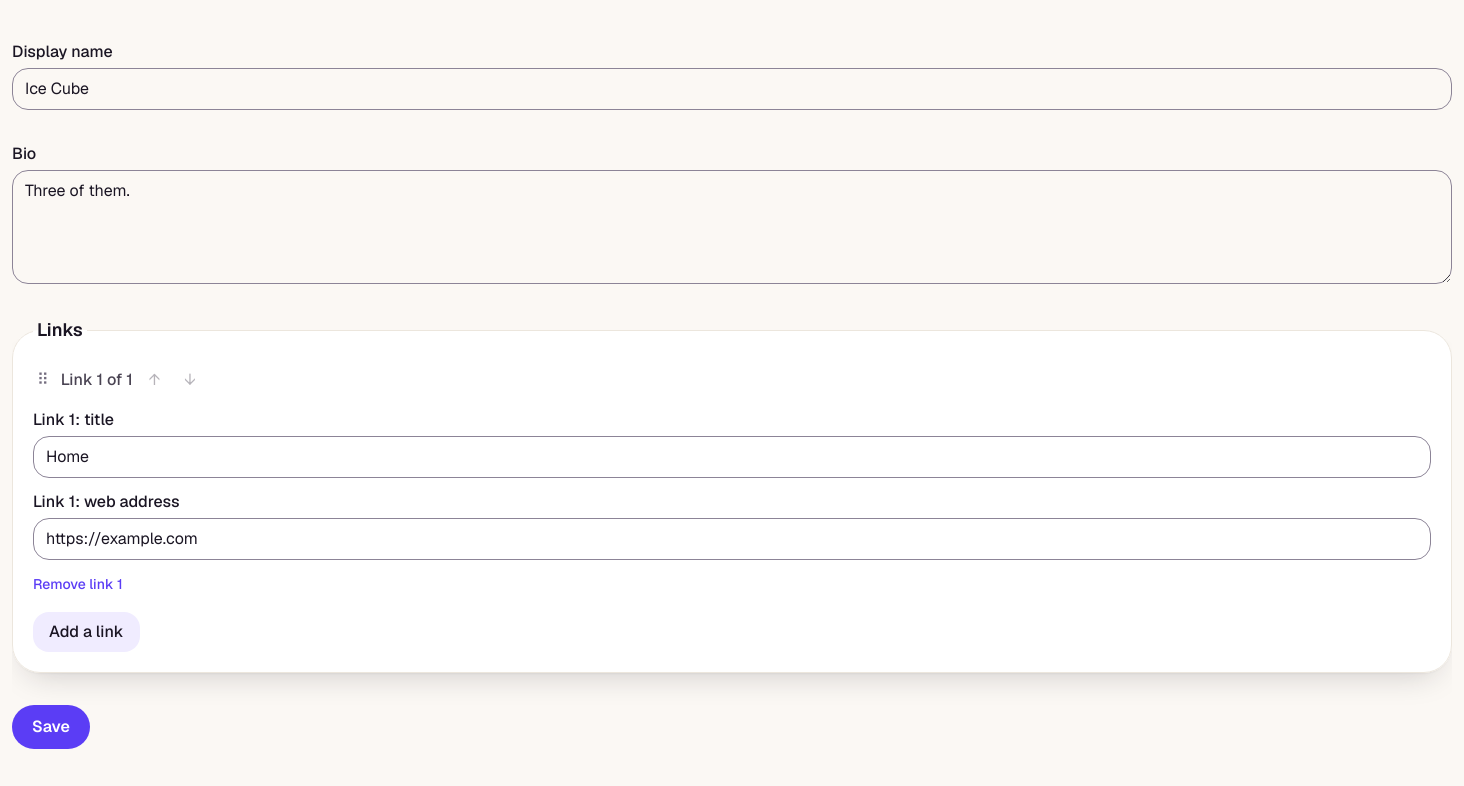
Scenario: the Profile form, when the save is rejected › keeps the draft when the write itself failed
Click the button "Save" at (51, 727), box [12,705,90,749]
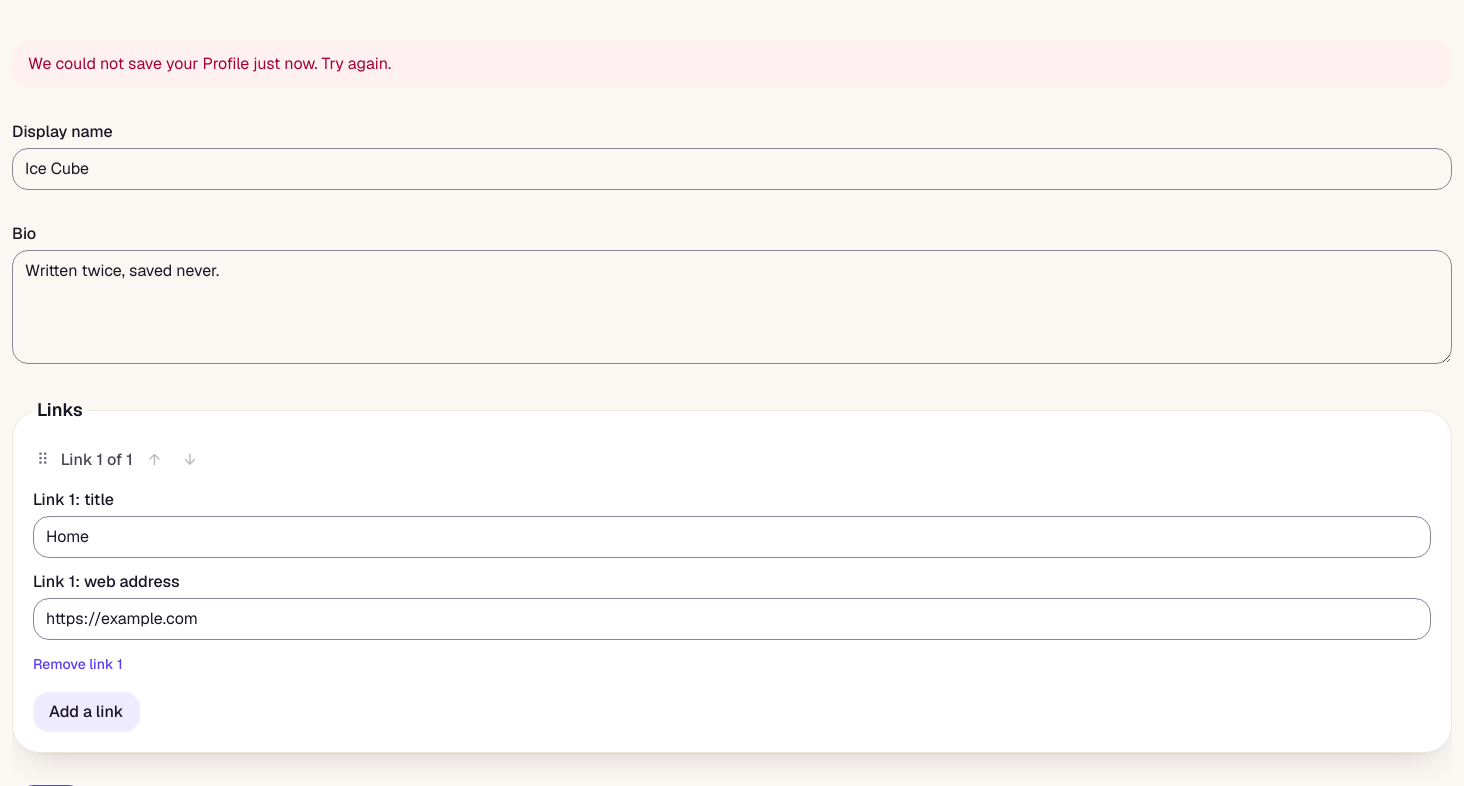
Check: the message reads "We could not save your Profile just now. Try again.", box [28,53,391,74]
Check: the text box labelled "Bio" holds "Written twice, saved never.", box [12,250,1452,364]
